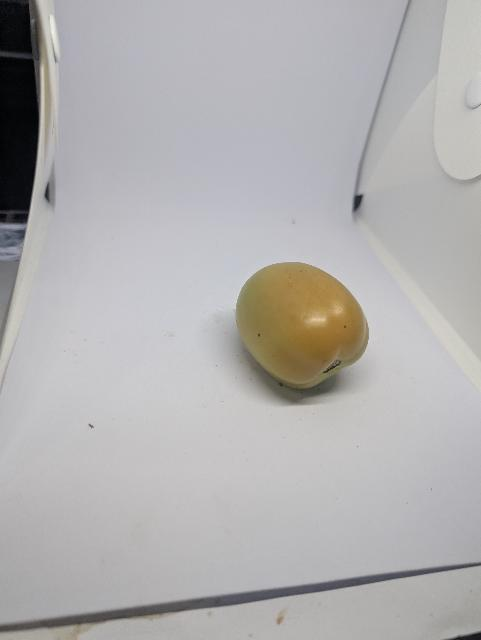breaker: (233, 257, 379, 397)
